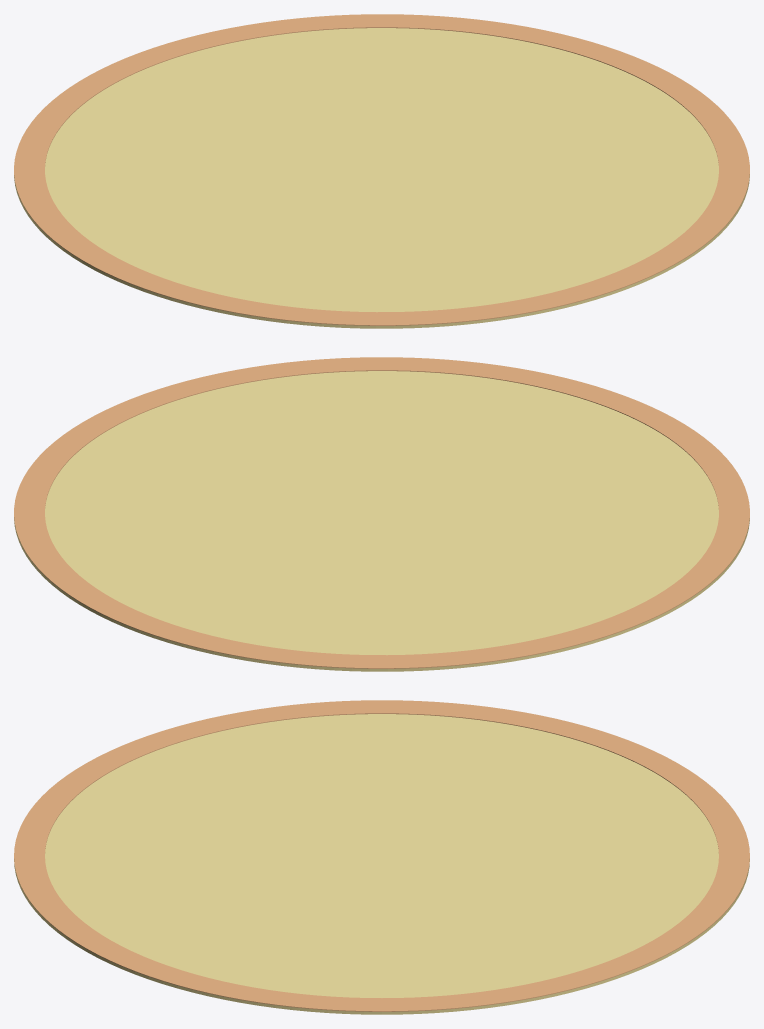
The model's file is rug_y.glb.
3 views of the same model, one above another, from view 1: azimuth 30°, elevation 25°; view 2: azimuth 150°, elevation 25°; view 3: azimuth 270°, elevation 25° (orthographic).
Parts seen in each view (by area): view 1: rug_y_fabric_y, rug_y_fabric_o; view 2: rug_y_fabric_y, rug_y_fabric_o; view 3: rug_y_fabric_y, rug_y_fabric_o.
Part boxes in pixels (x1,y1,x2,y2): rug_y_fabric_y: (14,28,749,328); rug_y_fabric_o: (14,14,749,325); rug_y_fabric_y: (14,371,749,671); rug_y_fabric_o: (14,357,749,668); rug_y_fabric_y: (14,714,749,1014); rug_y_fabric_o: (14,700,749,1011).
Bounding box in the file's own units: 1.9 × 0.01 × 1.9.
